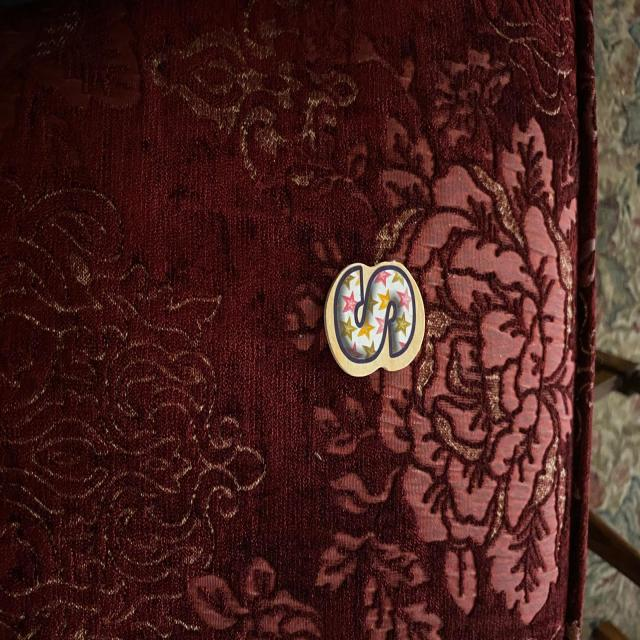S: (324, 261, 425, 375)
